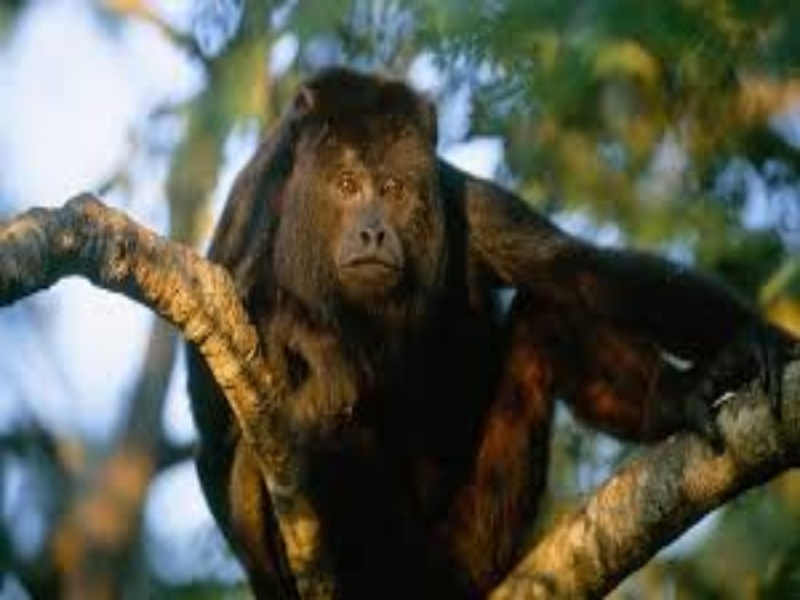monkey: (185, 66, 800, 575)
